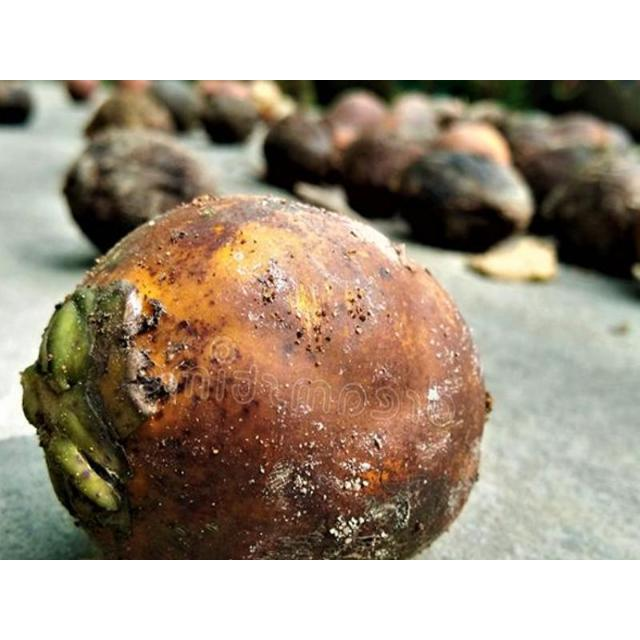damaged: (19, 195, 492, 559)
